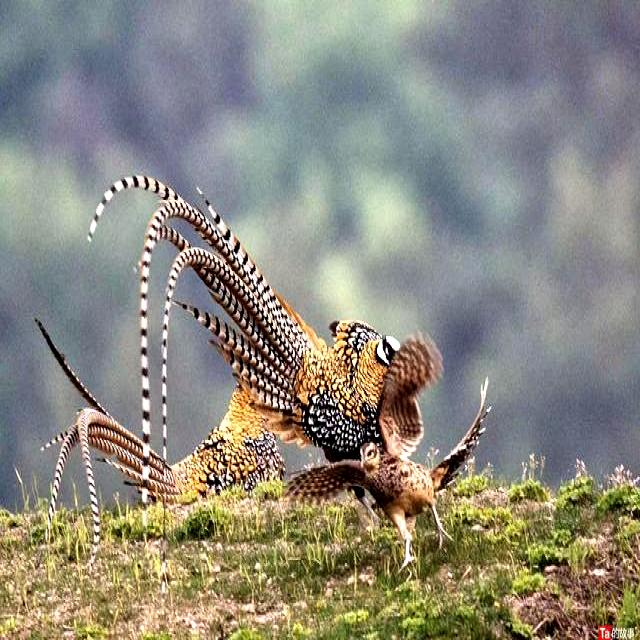Reeves-s Pheasant: (88, 175, 327, 528), (34, 317, 184, 567)
